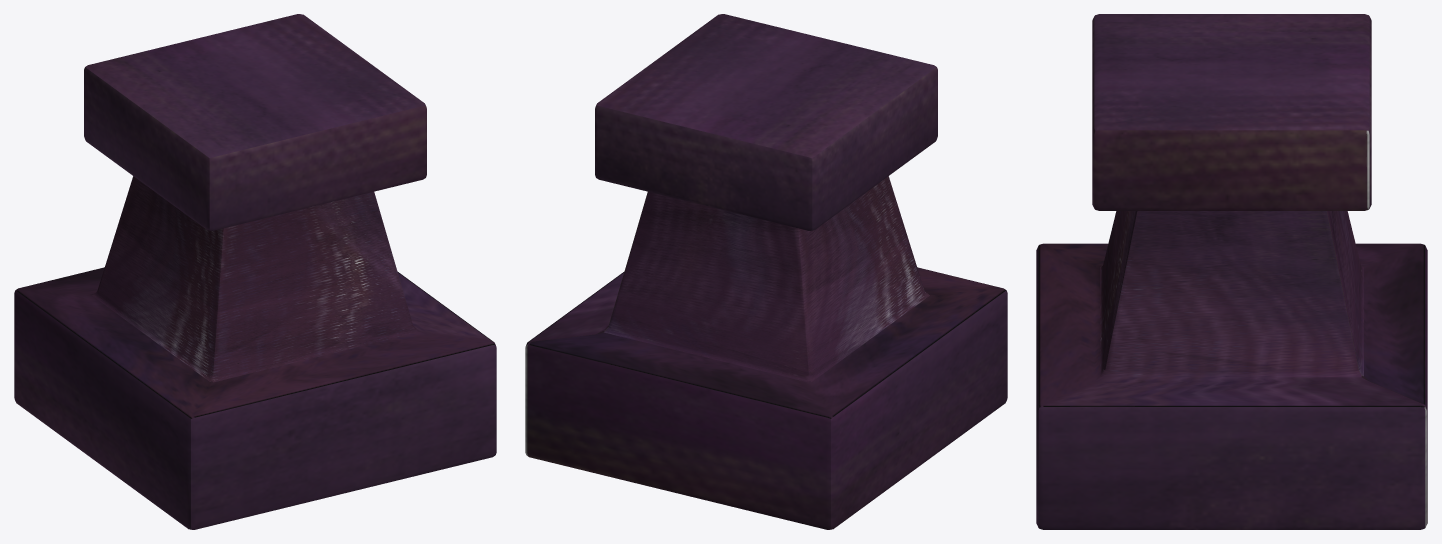
File: MANOR_PEDESTAL.obj
3 views of the same model, side by side, from view 1: azimuth 30°, elevation 25°; view 2: azimuth 150°, elevation 25°; view 3: azimuth 270°, elevation 25° (orthographic). The views are drawn at different scales.
Visible parts, largest first — view 1: MANOR_PEDESTAL.001; view 2: MANOR_PEDESTAL.001; view 3: MANOR_PEDESTAL.001.
Boxes of the visible parts, x1,y1,x2,y2 form: MANOR_PEDESTAL.001: (14, 14, 496, 529); MANOR_PEDESTAL.001: (525, 14, 1007, 529); MANOR_PEDESTAL.001: (1036, 14, 1427, 529).
Size of the model in its own units: 0.84 by 0.9 by 0.84.
